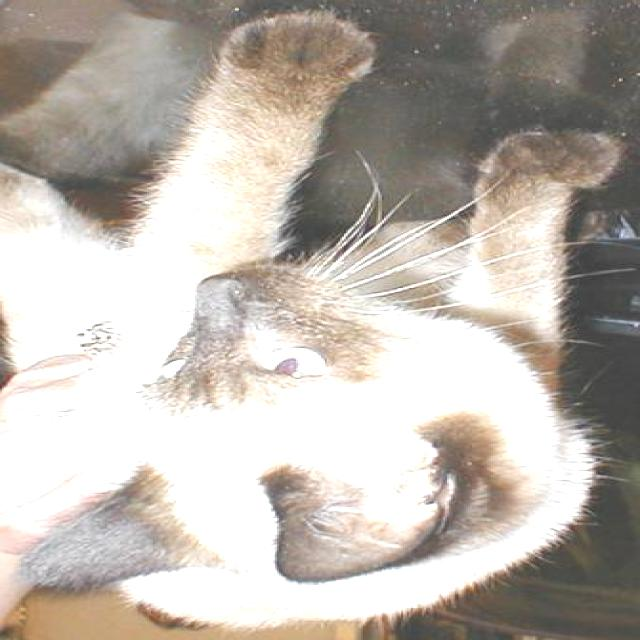Kucing: (8, 26, 640, 606)
